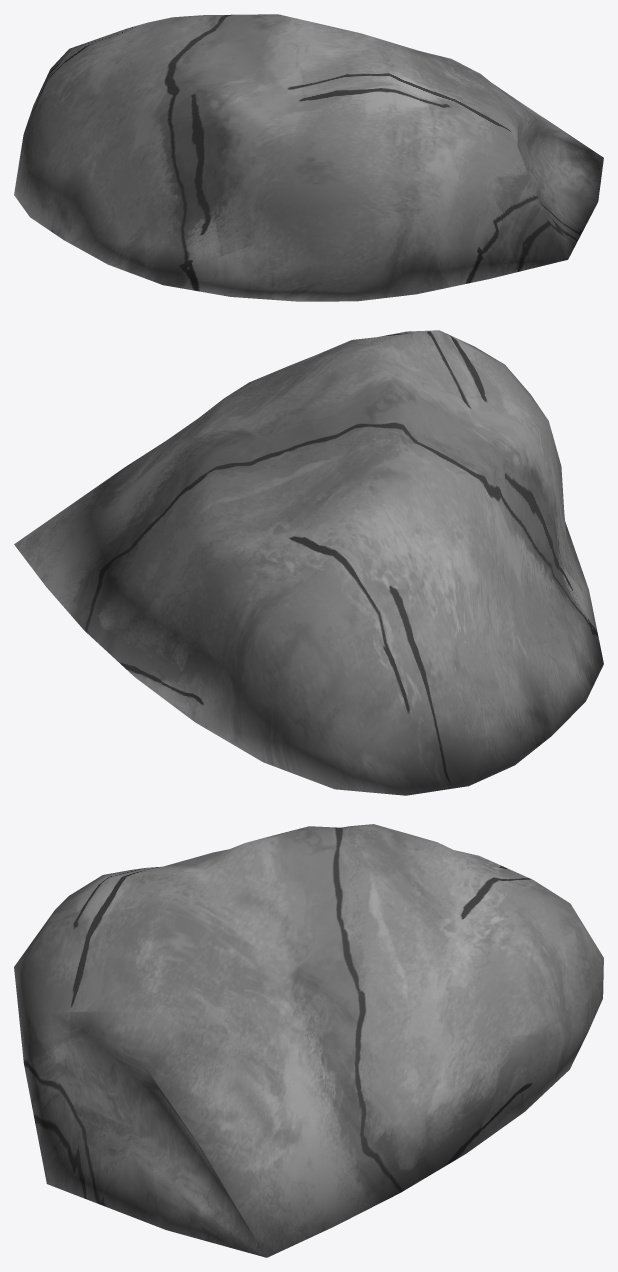
File: Rock01.fbx
The picture shows the model from 3 angles, top to bottom: view 1: azimuth 30°, elevation 25°; view 2: azimuth 150°, elevation 25°; view 3: azimuth 270°, elevation 25°; orthographic projection. The views are drawn at different scales.
Visible parts, largest first — view 1: Rock01; view 2: Rock01; view 3: Rock01.
Part boxes in pixels (x1,y1,x2,y2): Rock01: [14, 14, 603, 301]; Rock01: [14, 330, 603, 795]; Rock01: [14, 824, 603, 1257].
Size of the model in its own units: 618 by 257 by 557.
Materials: 1 (1 with a texture image).
